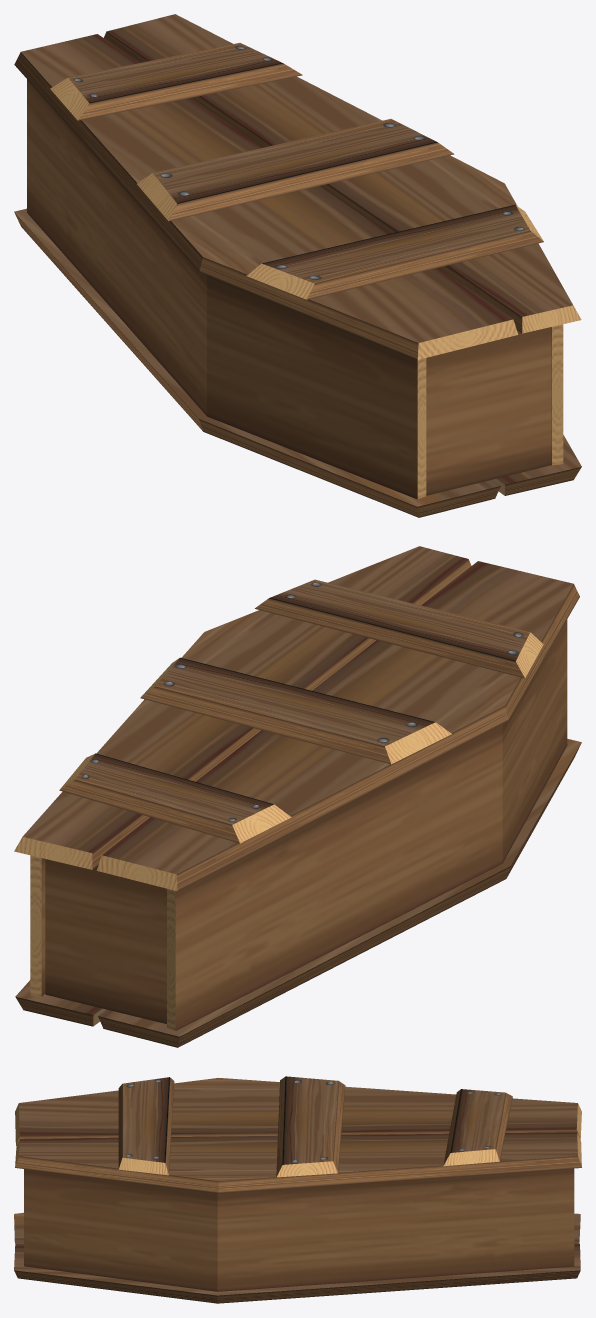
Rendered from Coffin_01.FBX.
The picture shows the model from 3 angles, top to bottom: view 1: azimuth 30°, elevation 25°; view 2: azimuth 150°, elevation 25°; view 3: azimuth 270°, elevation 25°; orthographic projection. The views are drawn at different scales.
Visible parts, largest first — view 1: Top, Body; view 2: Top, Body; view 3: Body, Top.
Boxes of the visible parts, box(x1,y1,x2,y2) form: Top: box(14, 14, 581, 359); Body: box(14, 79, 581, 517); Top: box(14, 546, 579, 891); Body: box(15, 619, 581, 1047); Body: box(14, 1168, 580, 1303); Top: box(15, 1076, 581, 1192).
Size of the model in its own units: 1.08 by 0.6162 by 2.41.
